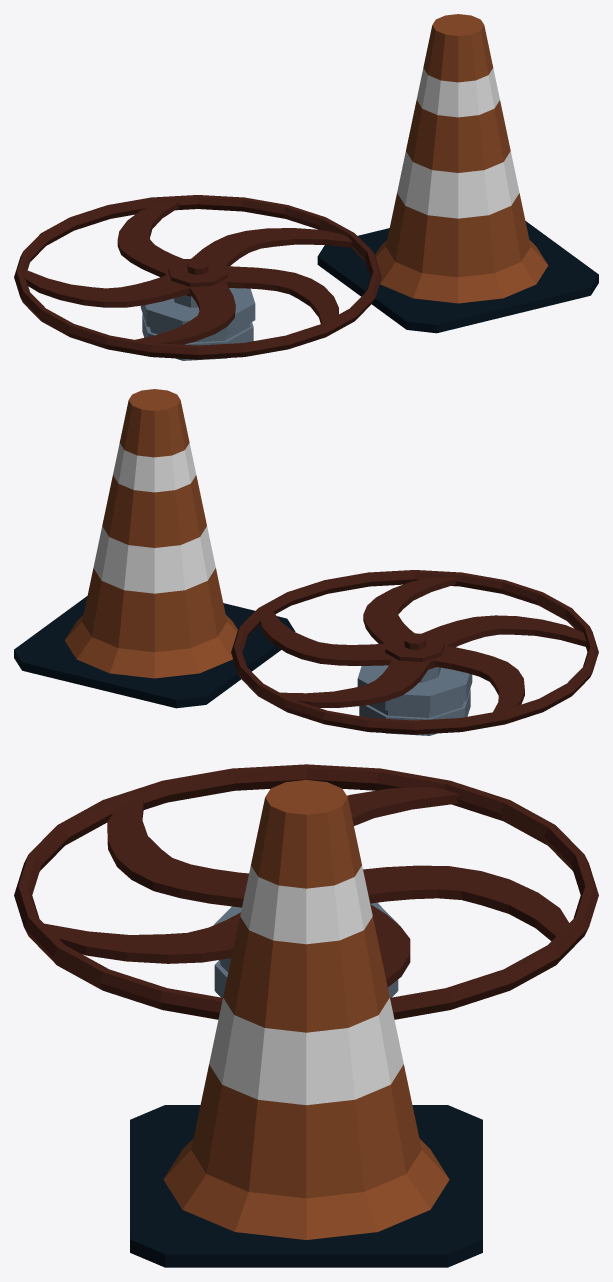
The model's file is ConeAndValve.fbx.
The picture shows the model from 3 angles, top to bottom: view 1: azimuth 30°, elevation 25°; view 2: azimuth 150°, elevation 25°; view 3: azimuth 270°, elevation 25°; orthographic projection. The views are drawn at different scales.
Parts seen in each view (by area): view 1: Cone, Valve; view 2: Cone, Valve; view 3: Cone, Valve.
Part boxes in pixels (x1,y1,x2,y2): Cone: [317, 14, 598, 333]; Valve: [14, 195, 381, 360]; Cone: [14, 389, 295, 708]; Valve: [231, 570, 598, 735]; Cone: [130, 780, 482, 1267]; Valve: [14, 764, 598, 1019].
Bounding box in the file's own units: 129 × 59.49 × 79.72.
